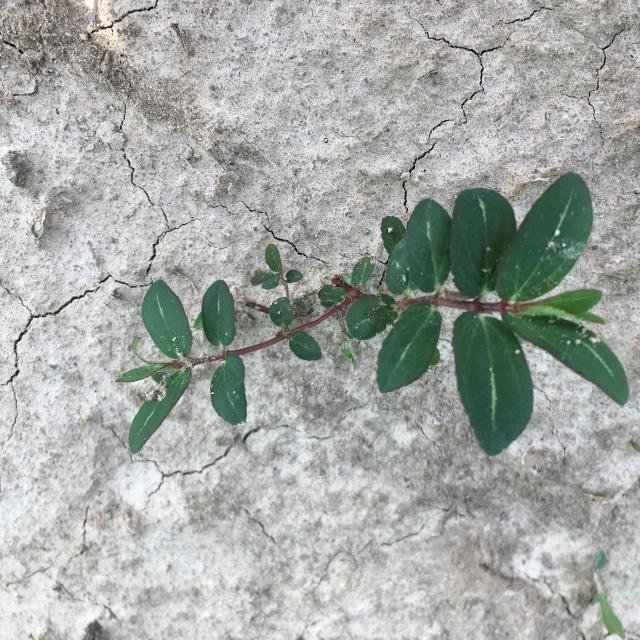SpottedSpurge: (112, 172, 630, 456)
